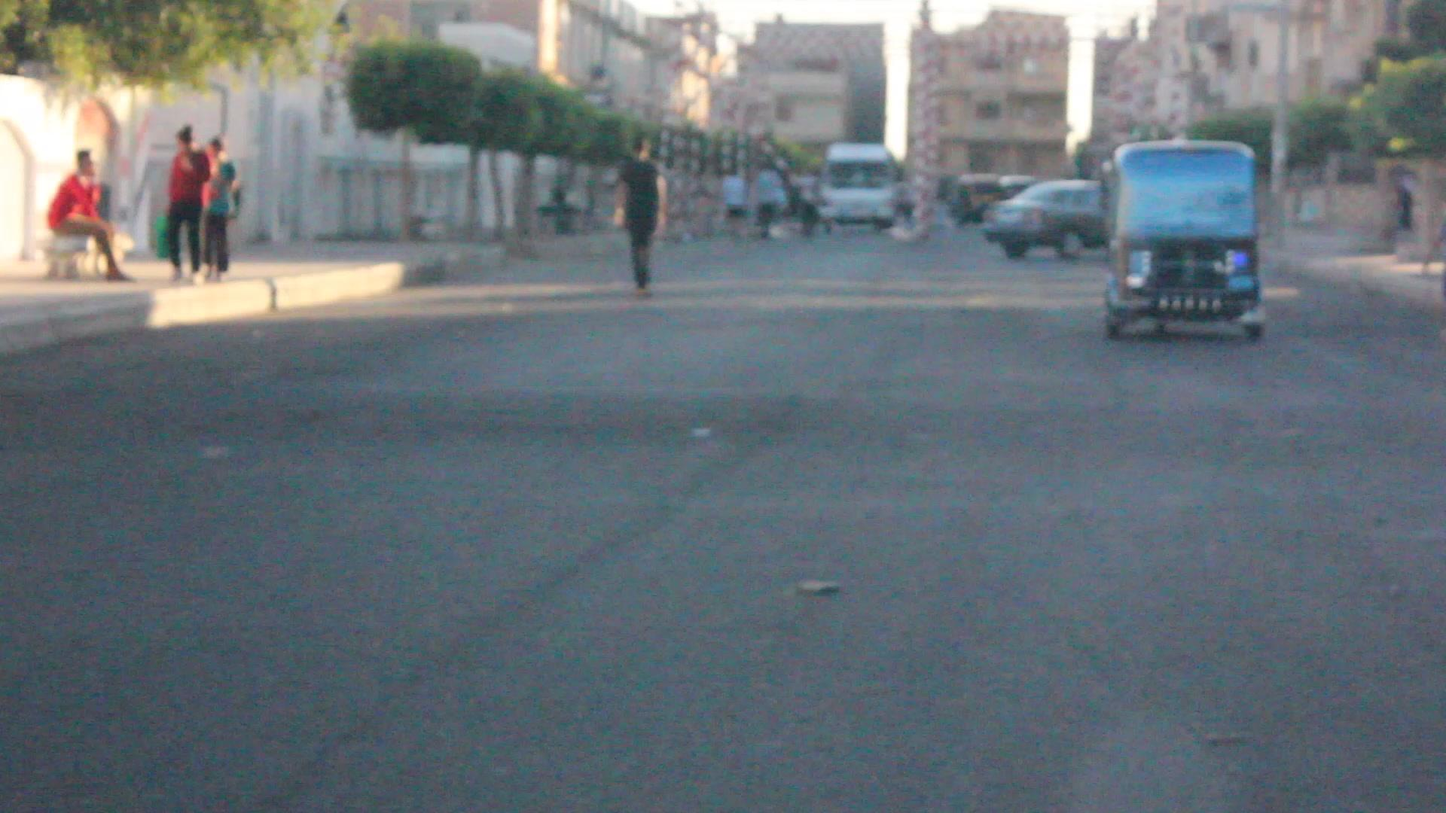Bump: (0, 388, 1446, 484)
